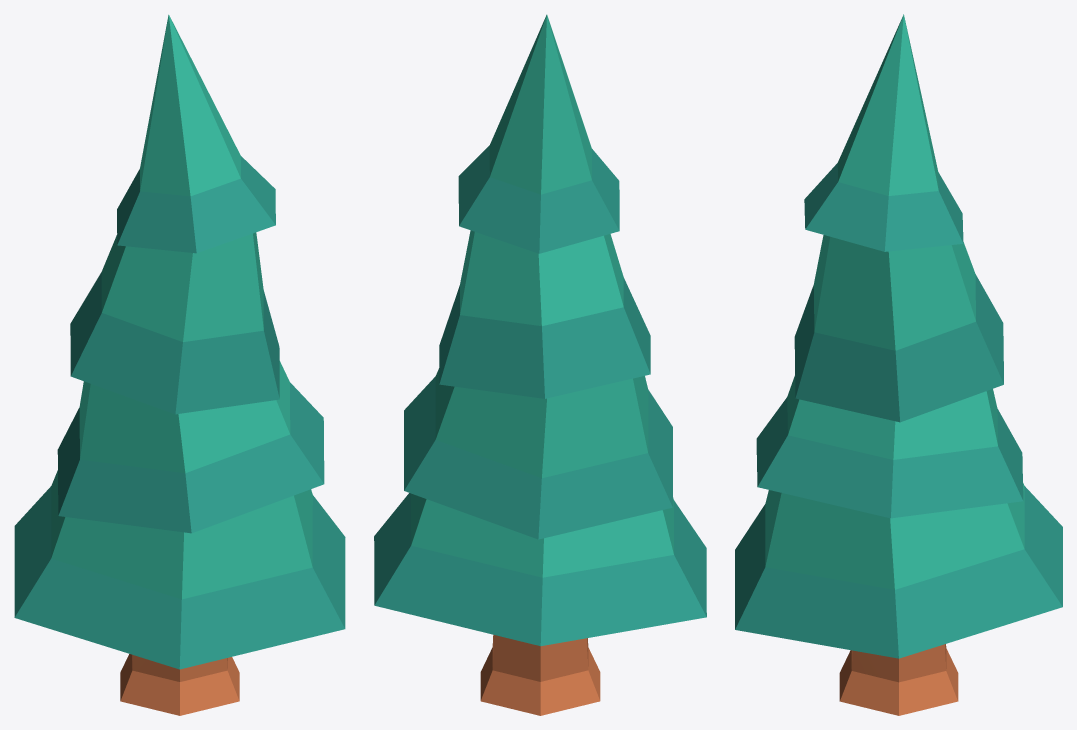
Rendered from d_kenney_pin_tordu.glb.
3 renders of one model, left to right at view 1: azimuth 30°, elevation 25°; view 2: azimuth 150°, elevation 25°; view 3: azimuth 270°, elevation 25°, orthographic.
Visible parts, largest first — view 1: d_kenney_pin_tordu; view 2: d_kenney_pin_tordu; view 3: d_kenney_pin_tordu.
Part boxes in pixels (box(x1,y1,x2,y2)): d_kenney_pin_tordu: box(14, 14, 345, 715); d_kenney_pin_tordu: box(374, 14, 706, 715); d_kenney_pin_tordu: box(735, 14, 1062, 715).
Bounding box in the file's own units: 1.18 × 2.29 × 1.02.
Materials: 1 (1 with a texture image).
